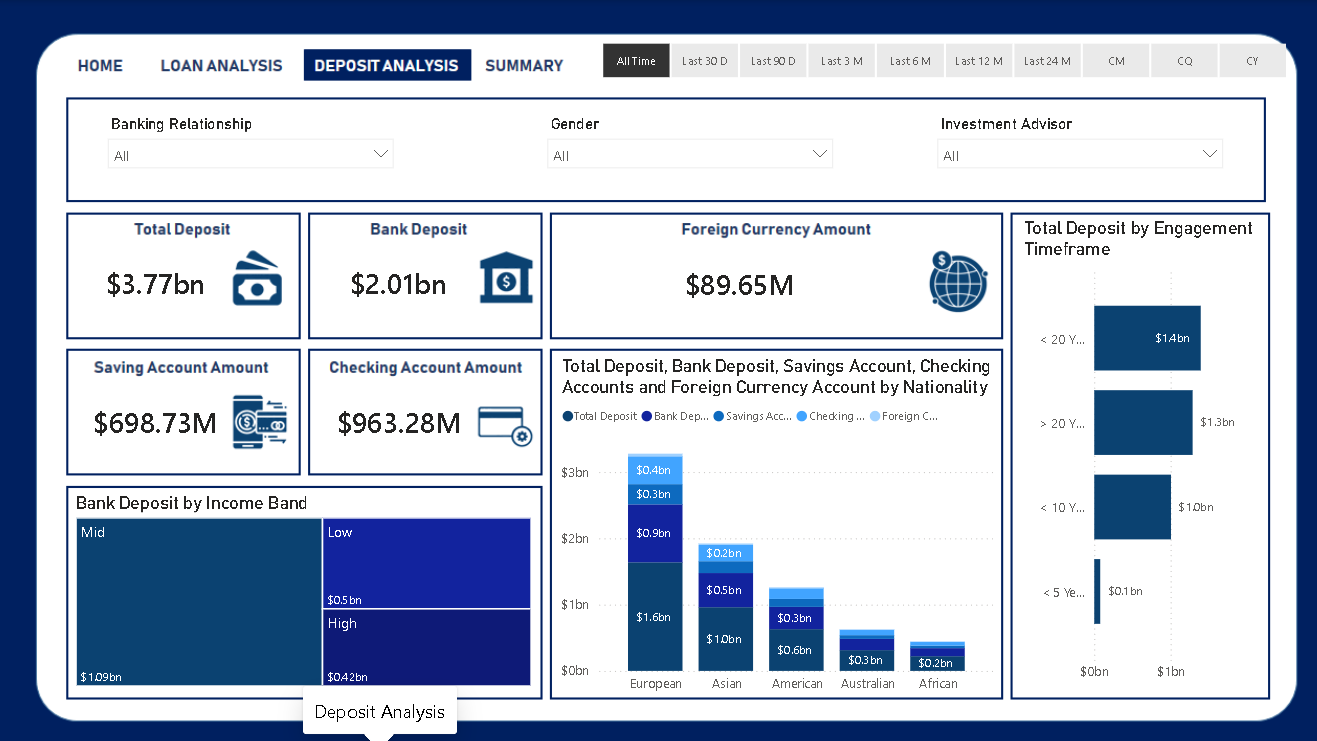

This screenshot's page, from the dashboard's own definition file:
{"tool":"powerbi","page":{"name":"Deposit Analysis","canvas":[1280,720],"ordinal":2},"visuals":[{"type":"card","fields":{"Values":["DAX Measures.Total Deposit"]},"box":[72.7,226.3,161.8,90.3],"z":0},{"type":"card","fields":{"Values":["DAX Measures.Bank Deposit"]},"box":[299,226.3,172.4,89.1],"z":1000},{"type":"card","fields":{"Values":["DAX Measures.Savings Account"]},"box":[72.7,360,161.8,89.1],"z":2000},{"type":"card","fields":{"Values":["DAX Measures.Checking Accounts"]},"box":[300.2,360,171.2,89.1],"z":3000},{"type":"slicer","fields":{"Values":["Banking Relationship.Banking Relationship"]},"box":[98.5,105.2,292.9,75.7],"z":4000},{"type":"slicer","fields":{"Values":["Gender.Gender"]},"box":[518.9,105.2,292.9,75.7],"z":5000},{"type":"slicer","fields":{"Values":["Investment Advisor.Investment Advisor"]},"box":[891.3,105.2,292.9,75.7],"z":6000},{"type":"card","fields":{"Values":["DAX Measures.Foreign Currency Account"]},"box":[537.1,227.5,349.4,89.1],"z":7000},{"type":"treemap","fields":{"Group":["Clients - Banking.Income Band"],"Values":["DAX Measures.Bank Deposit"]},"box":[72.7,470.2,444.4,190],"z":8000},{"type":"columnChart","fields":{"Category":["Clients - Banking.Nationality"],"Y":["DAX Measures.Total Deposit","DAX Measures.Bank Deposit","DAX Measures.Savings Account","DAX Measures.Checking Accounts","DAX Measures.Foreign Currency Account"]},"box":[537.1,338.9,423.3,331.9],"z":9000},{"type":"clusteredBarChart","fields":{"Category":["Clients - Banking.Engagement Timeframe"],"Y":["DAX Measures.Total Deposit"]},"box":[978,207.6,234.5,452.6],"z":10000},{"type":"slicer","fields":{"Values":["Period.Name"]},"box":[555.2,34.6,702.1,46.6],"z":11000},{"type":"actionButton","box":[72.8,44.2,58.5,31],"z":12000},{"type":"actionButton","box":[160,44.2,119.4,31],"z":13000},{"type":"actionButton","box":[471.6,44.2,83.6,31],"z":14000}]}

Visuals, with their boxes in screenshot pixels (x1, y1, x2, y2), scaled from the page's 1280x720 canvas onto the 1317x741 screenshot:
card - DAX Measures.Total Deposit: 75/233/241/326
card - DAX Measures.Bank Deposit: 308/233/485/325
card - DAX Measures.Savings Account: 75/370/241/462
card - DAX Measures.Checking Accounts: 309/370/485/462
slicer - Banking Relationship.Banking Relationship: 101/108/403/186
slicer - Gender.Gender: 534/108/835/186
slicer - Investment Advisor.Investment Advisor: 917/108/1218/186
card - DAX Measures.Foreign Currency Account: 553/234/912/326
treemap - Clients - Banking.Income Band x DAX Measures.Bank Deposit: 75/484/532/679
columnChart - Clients - Banking.Nationality x DAX Measures.Total Deposit: 553/349/988/690
clusteredBarChart - Clients - Banking.Engagement Timeframe x DAX Measures.Total Deposit: 1006/214/1248/679
slicer - Period.Name: 571/36/1294/84
actionButton: 75/45/135/77
actionButton: 165/45/287/77
actionButton: 485/45/571/77
